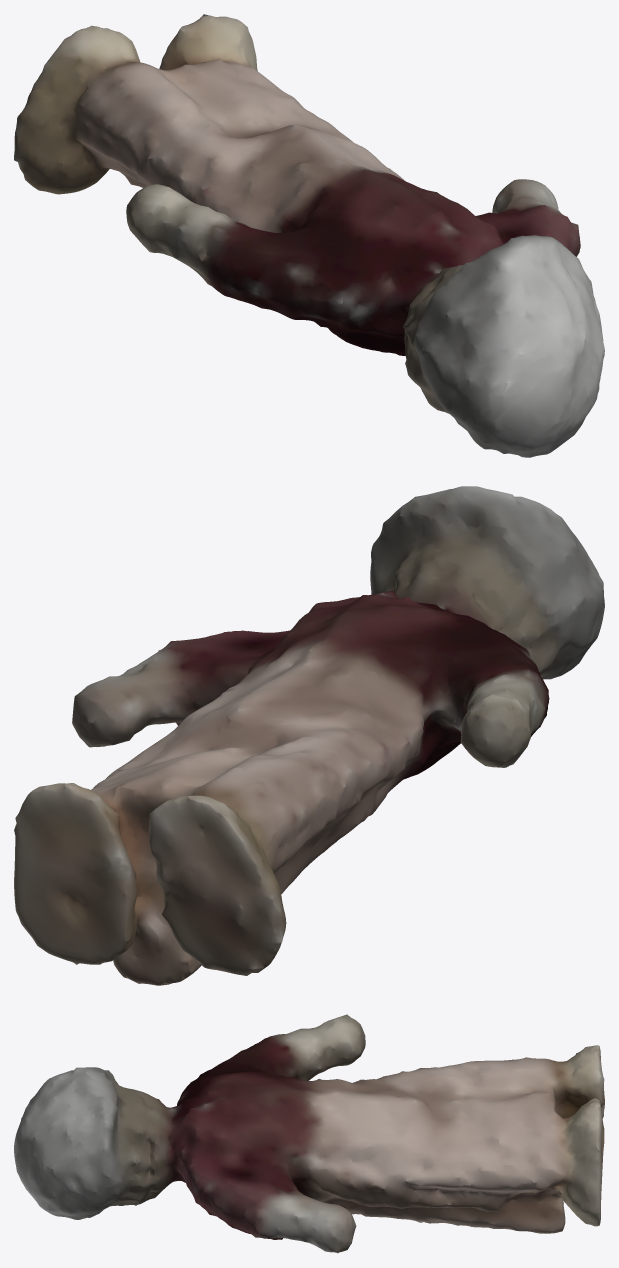
The model's file is grandmother.glb.
The picture shows the model from 3 angles, top to bottom: view 1: azimuth 30°, elevation 25°; view 2: azimuth 150°, elevation 25°; view 3: azimuth 270°, elevation 25°; orthographic projection. The views are drawn at different scales.
Size of the model in its own units: 0.6035 by 0.3031 by 0.9957.
